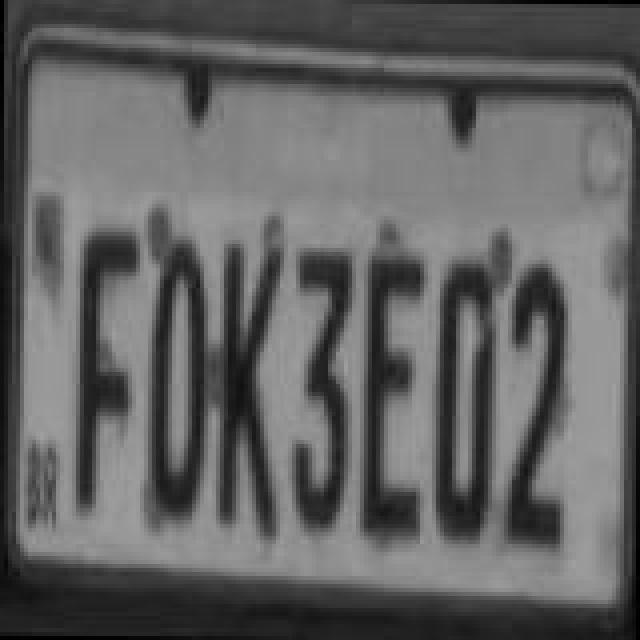2: (502, 256, 566, 552)
3: (286, 246, 350, 538)
D: (428, 254, 496, 550)
E: (356, 254, 424, 550)
F: (74, 226, 142, 518)
K: (212, 236, 280, 544)
O: (142, 238, 206, 526)
